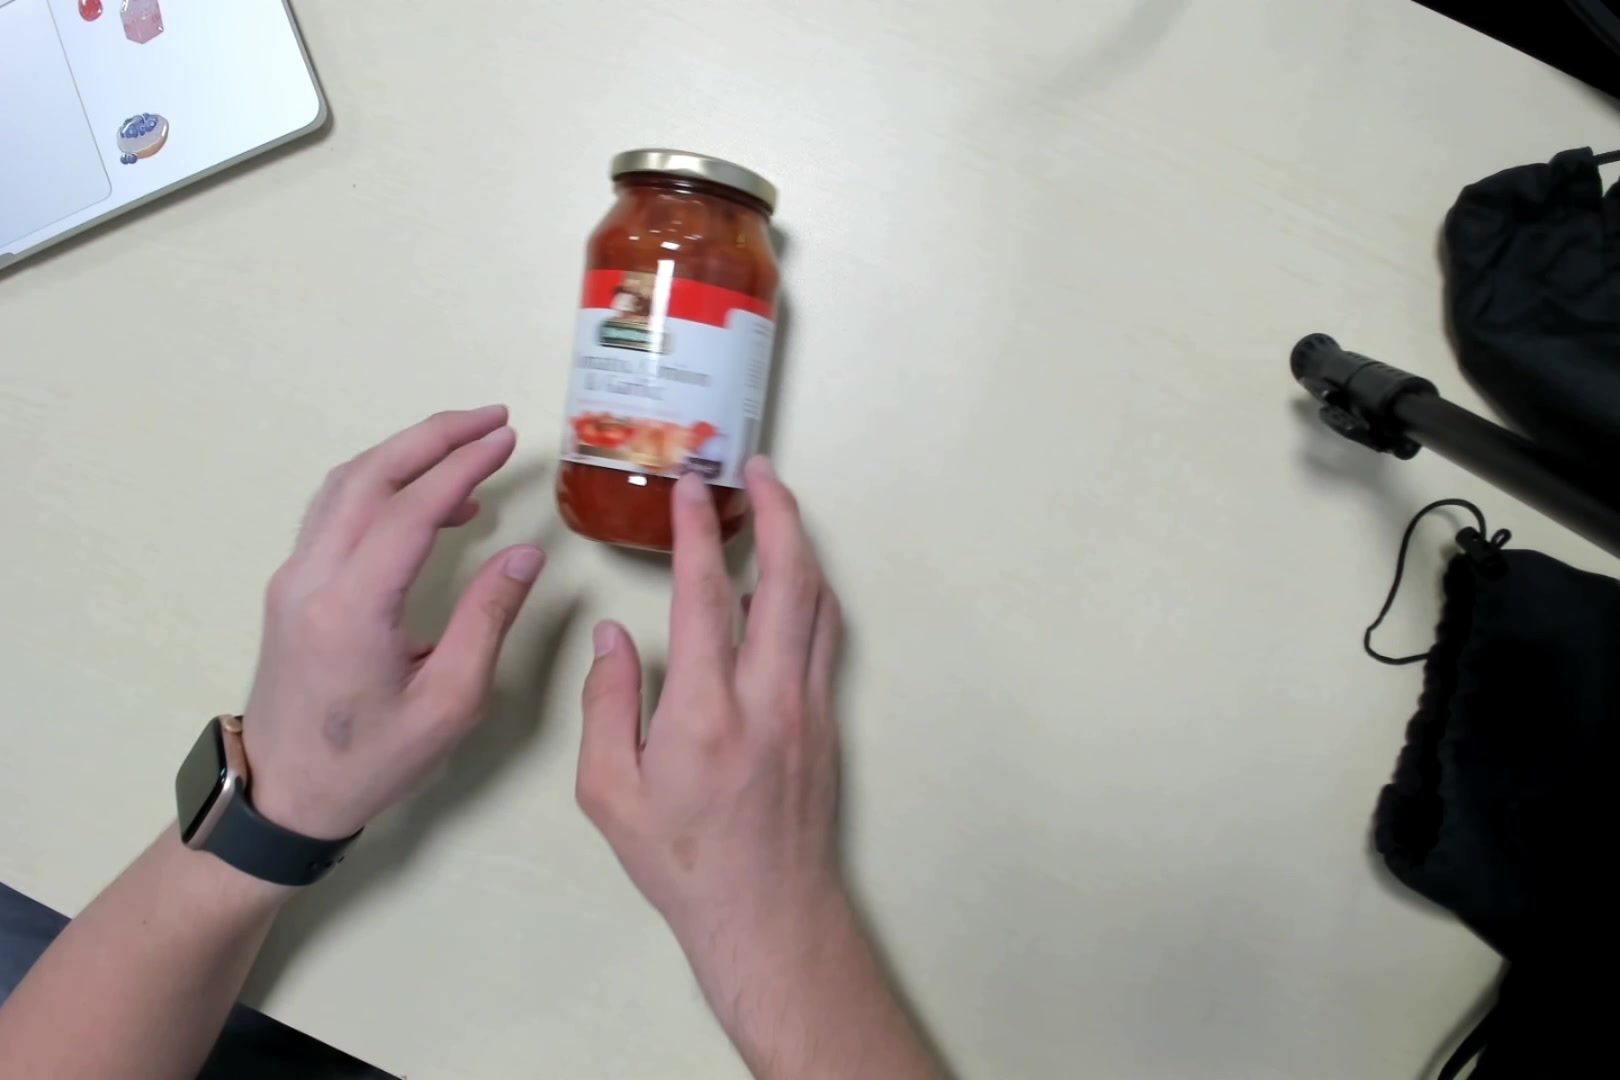PastaSauce_500-599g_NonHalal_NonHealthy: (565, 143, 779, 560)
